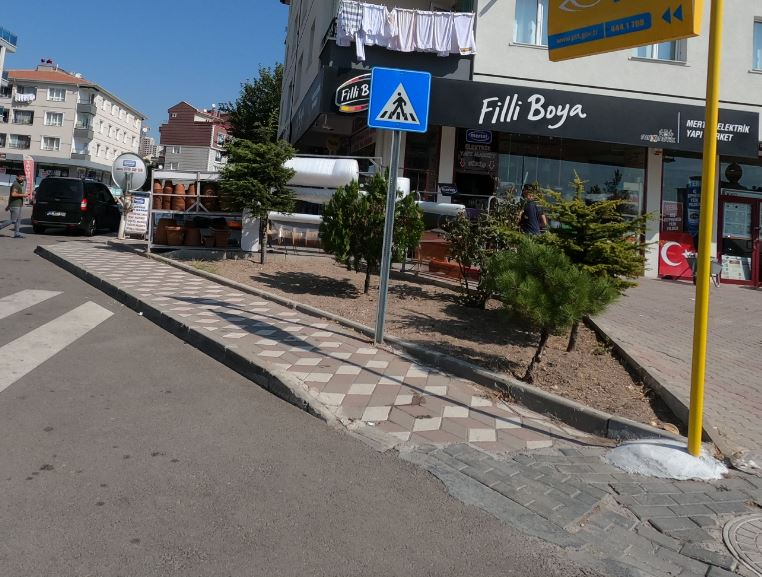Yaya Gecidi: (374, 68, 434, 129)
